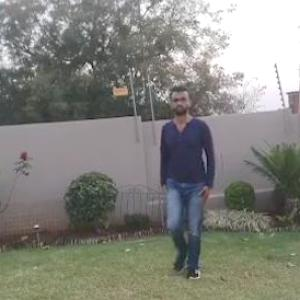follow: (160, 88, 211, 276)
